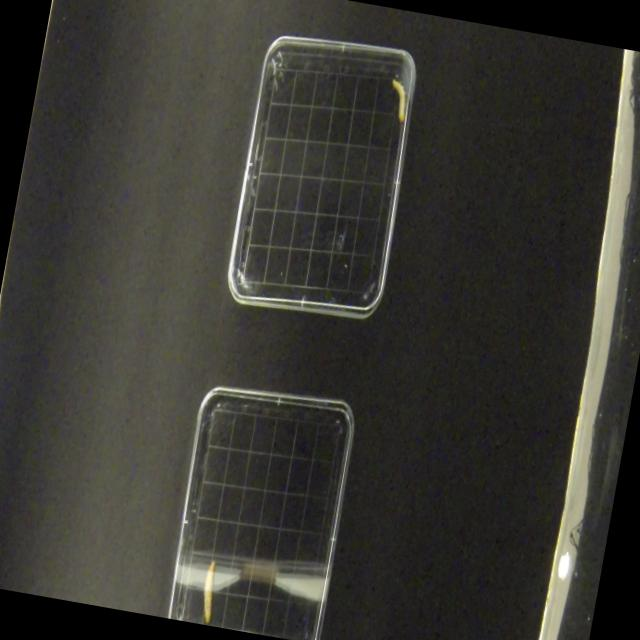larva: (194, 557, 225, 626), (384, 74, 411, 128)
